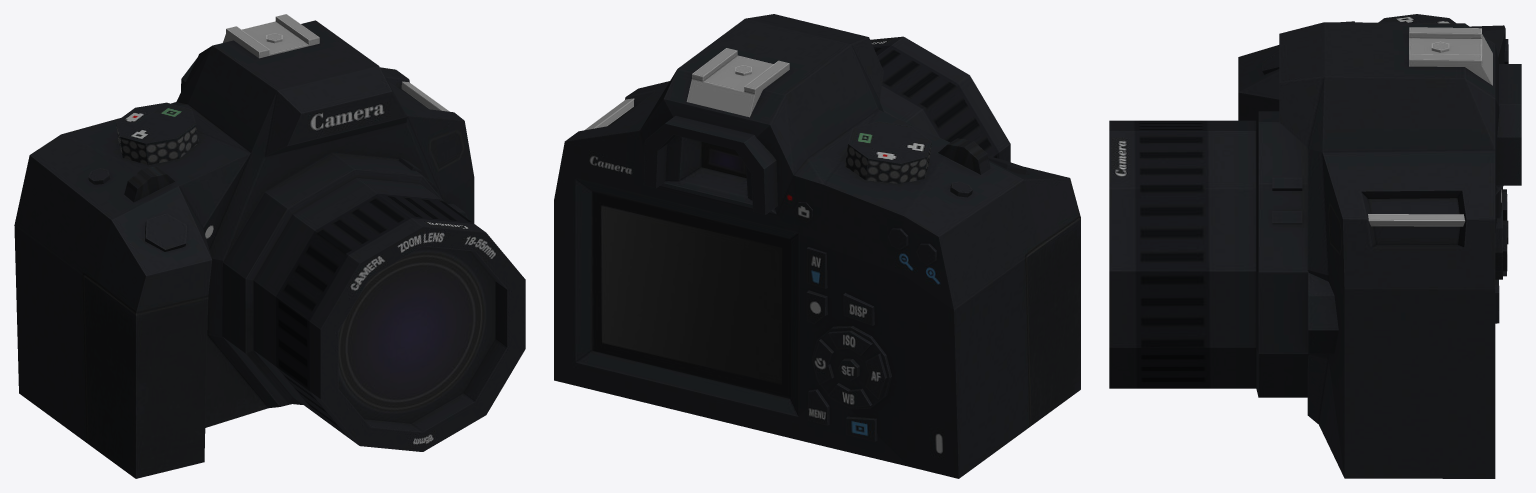
The model's file is Camera by Poly by Google - 0nfSsetwy0Z.glb.
3 views of the same model, side by side, from view 1: azimuth 30°, elevation 25°; view 2: azimuth 150°, elevation 25°; view 3: azimuth 270°, elevation 25° (orthographic). The views are drawn at different scales.
Parts seen in each view (by area): view 1: Camera_mesh; view 2: Camera_mesh; view 3: Camera_mesh.
Part boxes in pixels (bbox=[...]): Camera_mesh: bbox=[14, 14, 525, 478]; Camera_mesh: bbox=[554, 14, 1080, 478]; Camera_mesh: bbox=[1109, 14, 1521, 478].
Size of the model in its own units: 4.83 by 3.82 by 4.05.
1 material, 1 textured.
